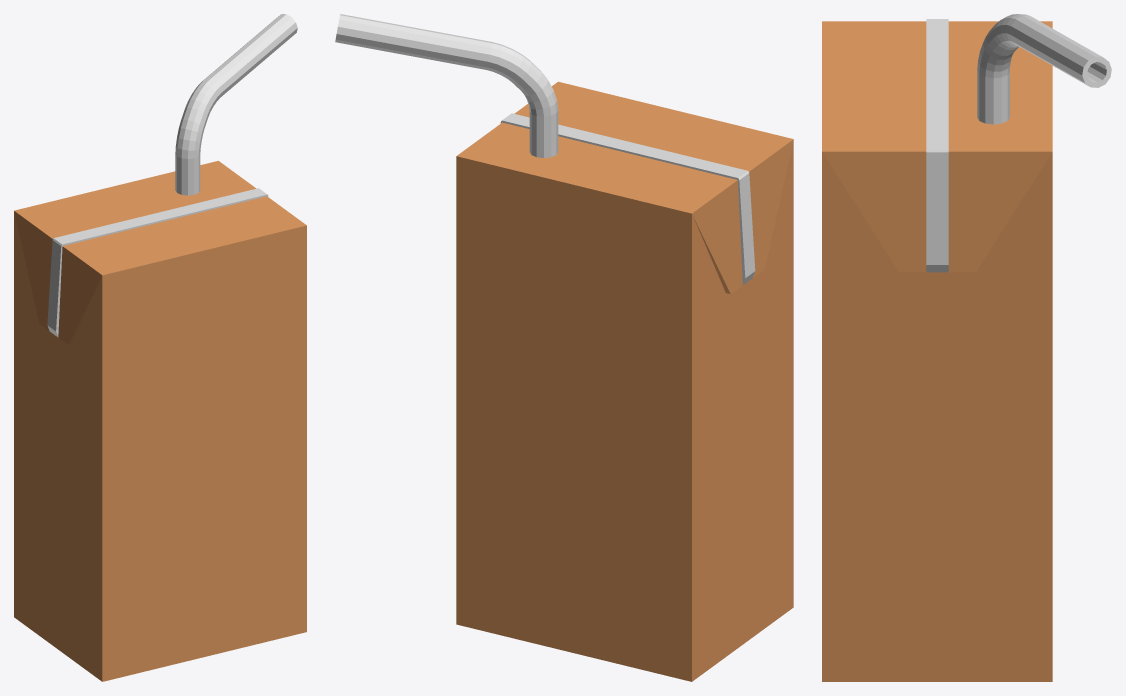
File: juice_box.fbx
The picture shows the model from 3 angles, left to right: view 1: azimuth 30°, elevation 25°; view 2: azimuth 150°, elevation 25°; view 3: azimuth 270°, elevation 25°; orthographic projection. The views are drawn at different scales.
Visible parts, largest first — view 1: Cube.008, Circle; view 2: Cube.008, Circle; view 3: Cube.008, Circle.
Part boxes in pixels (x1,y1,x2,y2): Cube.008: [14, 160, 306, 681]; Circle: [175, 14, 297, 195]; Cube.008: [456, 81, 793, 681]; Circle: [335, 14, 558, 157]; Cube.008: [822, 19, 1052, 681]; Circle: [977, 14, 1111, 124].
Size of the model in its own units: 6.41 by 10.57 by 4.09.
